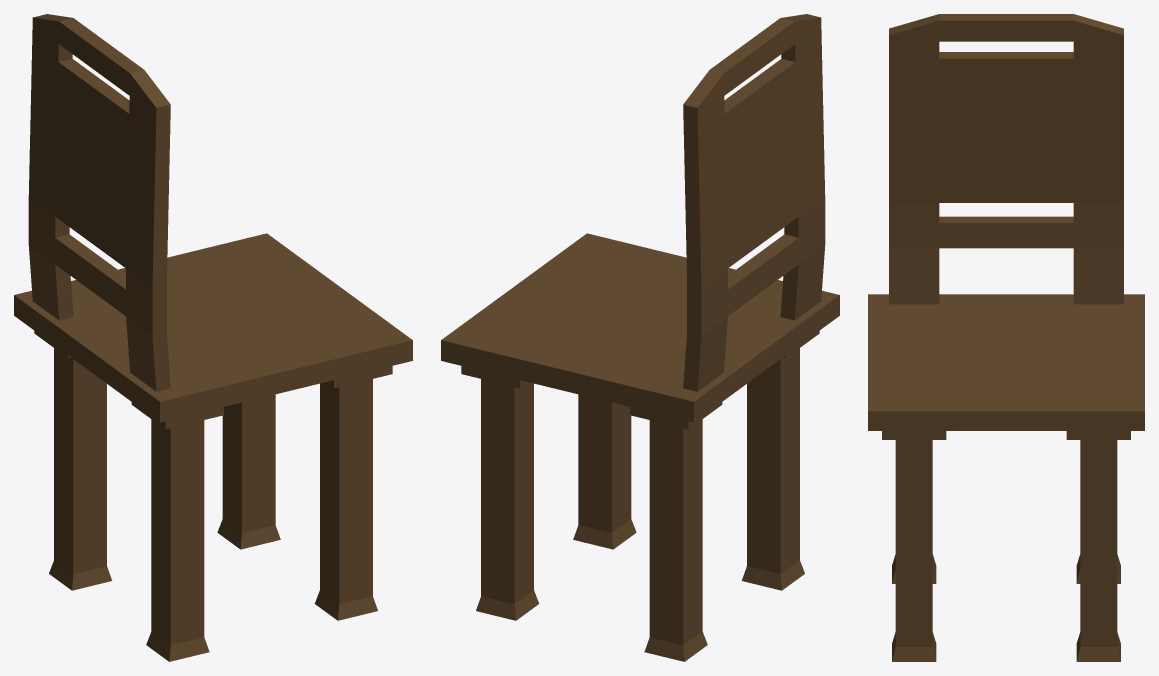
File: chair.glb
3 views of the same model, side by side, from view 1: azimuth 30°, elevation 25°; view 2: azimuth 150°, elevation 25°; view 3: azimuth 270°, elevation 25° (orthographic). The views are drawn at different scales.
Visible parts, largest first — view 1: Cube; view 2: Cube; view 3: Cube.
Part boxes in pixels (<box>): Cube: <box>14,14,412,661</box>; Cube: <box>441,14,839,661</box>; Cube: <box>868,14,1144,661</box>.
Bounding box in the file's own units: 2 × 4.34 × 2.
